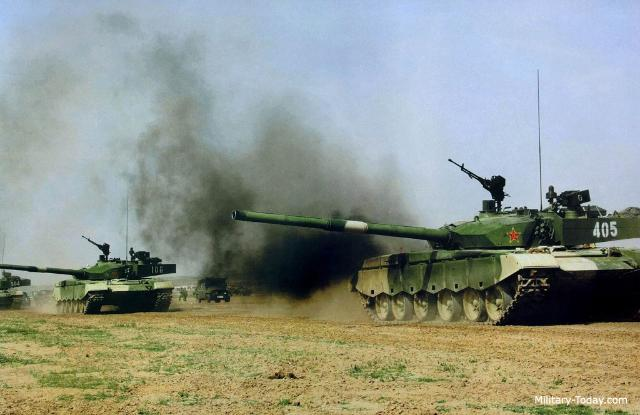tank: (354, 194, 640, 313), (56, 256, 174, 312), (0, 273, 30, 309)
